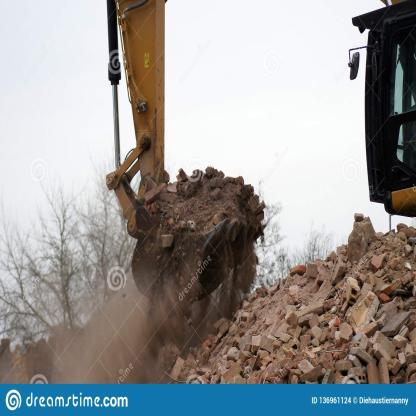excavator: (91, 4, 281, 307)
